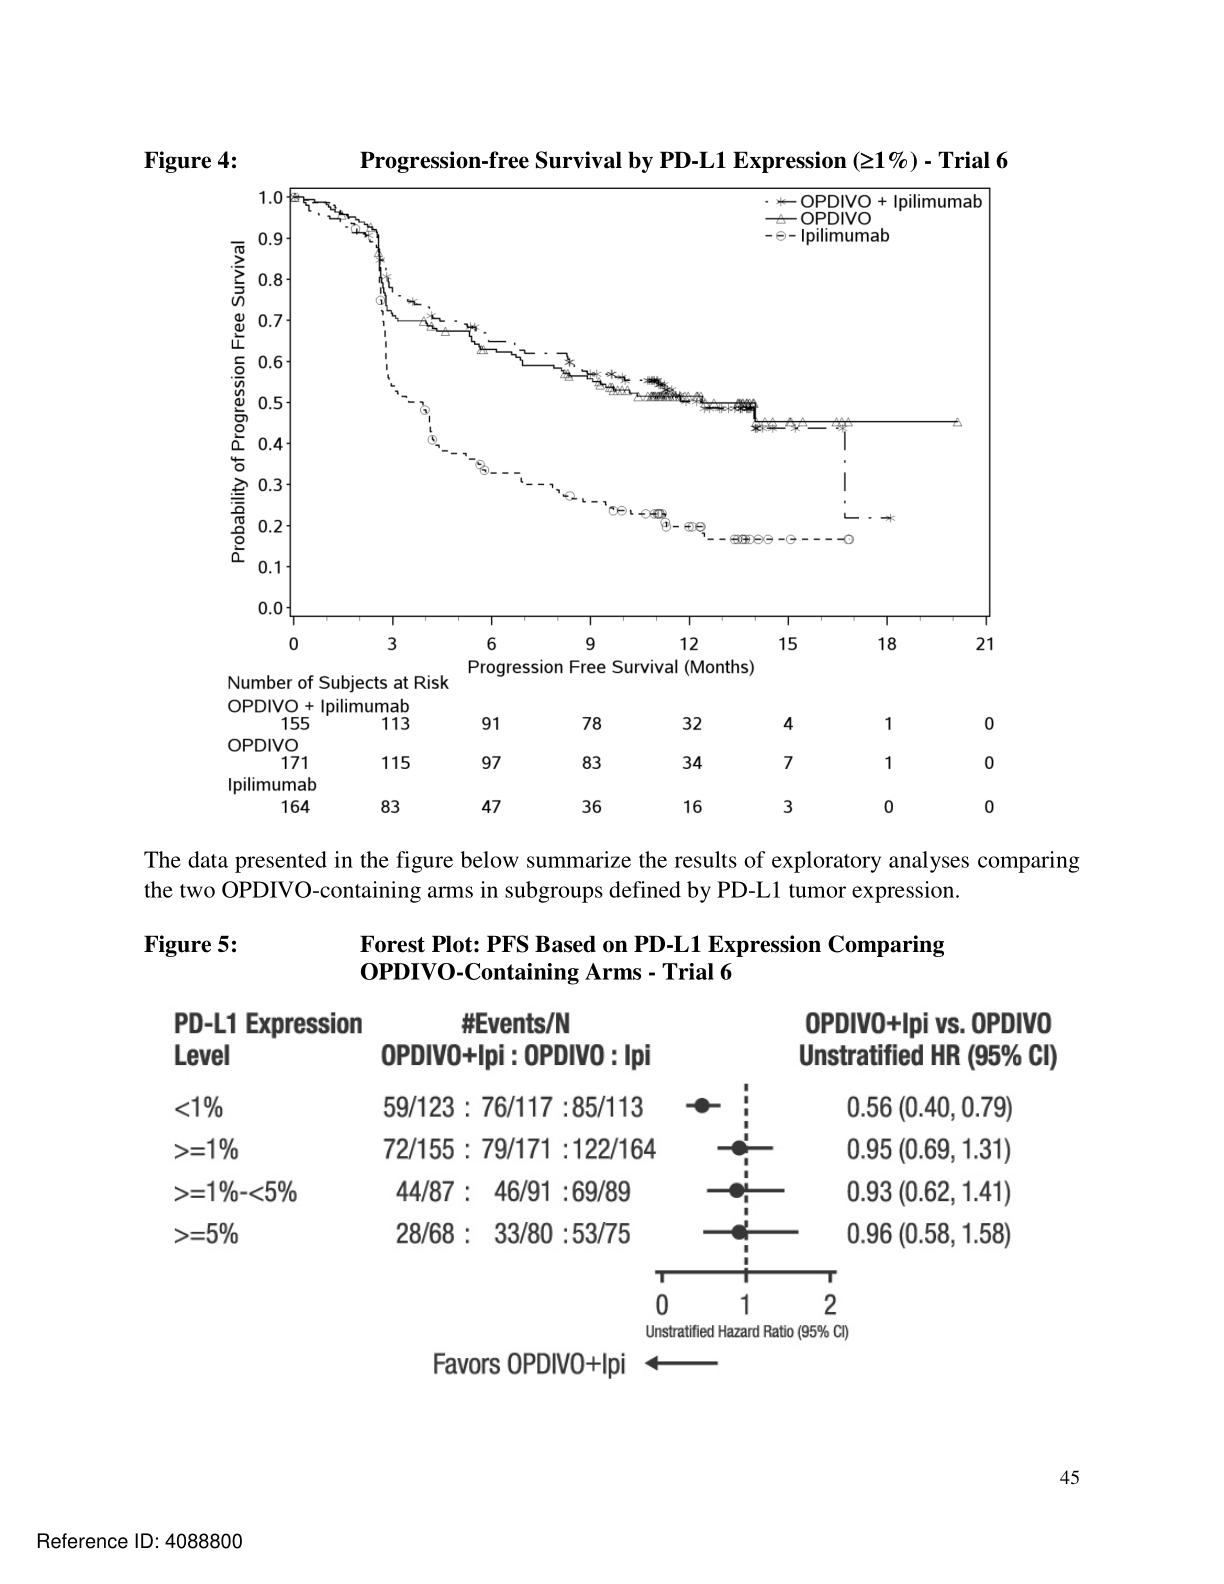nolines: (167, 1004, 1061, 1252), (222, 696, 998, 818)
